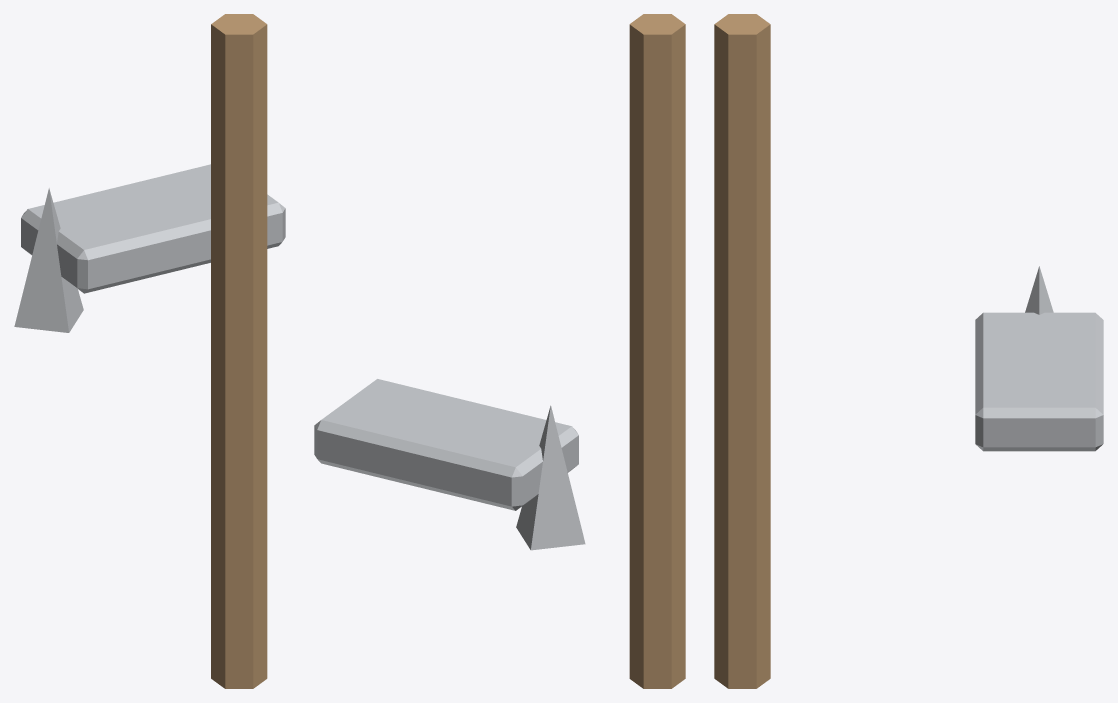
Rendered from axe.fbx.
The picture shows the model from 3 angles, left to right: view 1: azimuth 30°, elevation 25°; view 2: azimuth 150°, elevation 25°; view 3: azimuth 270°, elevation 25°; orthographic projection.
Parts seen in each view (by area): view 1: Handle, Head, Edge; view 2: Handle, Head, Edge; view 3: Handle, Head, Edge.
Boxes of the visible parts, bbox=[...] form: Handle: bbox=[211, 14, 267, 688]; Head: bbox=[21, 164, 285, 293]; Edge: bbox=[14, 188, 83, 332]; Handle: bbox=[629, 14, 685, 688]; Head: bbox=[314, 379, 578, 510]; Edge: bbox=[516, 405, 585, 550]; Handle: bbox=[714, 14, 770, 688]; Head: bbox=[975, 312, 1103, 451]; Edge: bbox=[1025, 266, 1053, 314].
Bounding box in the file's own units: 35 × 90 × 48.5.
